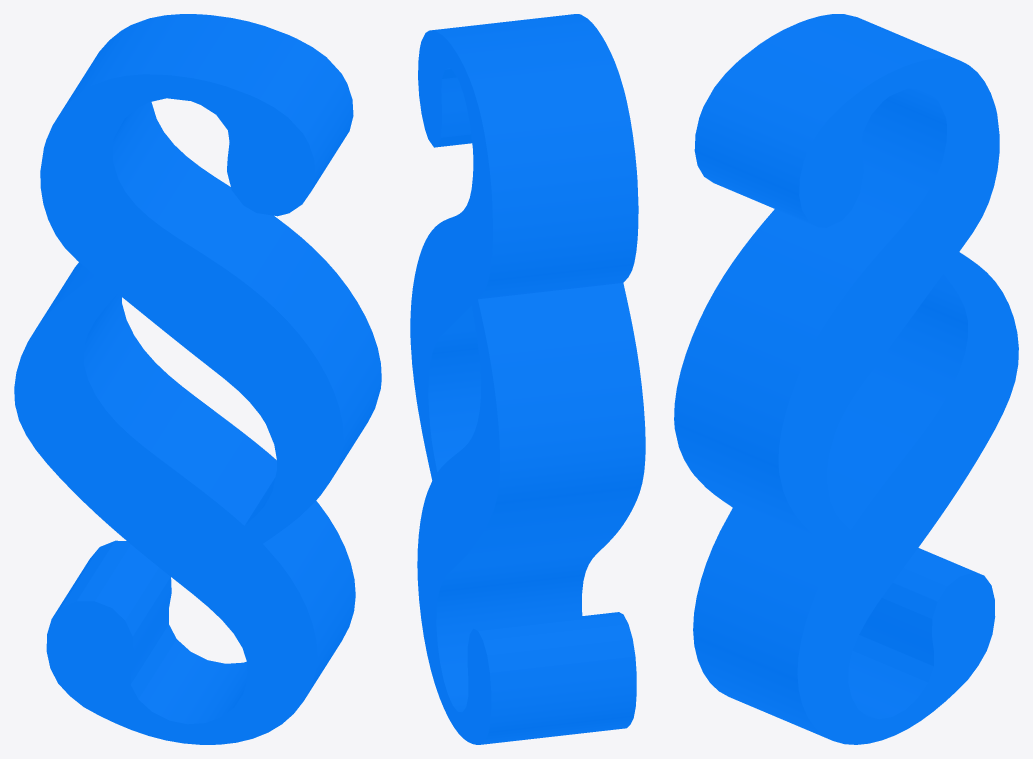
File: totem_prawo.glb
The picture shows the model from 3 angles, left to right: view 1: azimuth 30°, elevation 25°; view 2: azimuth 150°, elevation 25°; view 3: azimuth 270°, elevation 25°; orthographic projection. The views are drawn at different scales.
Parts seen in each view (by area): view 1: totem_prawo_1; view 2: totem_prawo_1; view 3: totem_prawo_1.
Boxes of the visible parts, left/top/right/bottom form: totem_prawo_1: left=14, top=14, right=381, bottom=744; totem_prawo_1: left=410, top=14, right=645, bottom=744; totem_prawo_1: left=674, top=14, right=1018, bottom=744.
Bounding box in the file's own units: 0.5605 × 1.19 × 0.5605.
